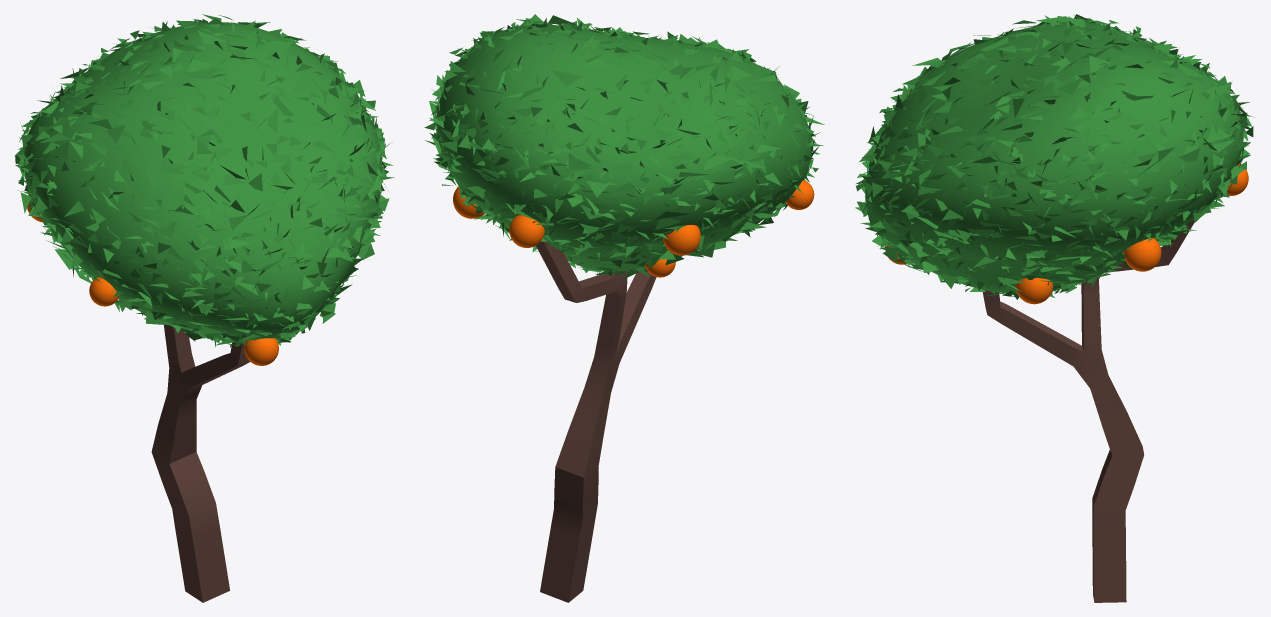
The model's file is OrangeTree.fbx.
The picture shows the model from 3 angles, left to right: view 1: azimuth 30°, elevation 25°; view 2: azimuth 150°, elevation 25°; view 3: azimuth 270°, elevation 25°; orthographic projection. The views are drawn at different scales.
Visible parts, largest first — view 1: OrangeTree; view 2: OrangeTree; view 3: OrangeTree.
Part boxes in pixels (bbox=[...]): OrangeTree: bbox=[14, 14, 394, 602]; OrangeTree: bbox=[424, 14, 824, 602]; OrangeTree: bbox=[855, 14, 1253, 602].
Bounding box in the file's own units: 66.86 × 107 × 70.63.
